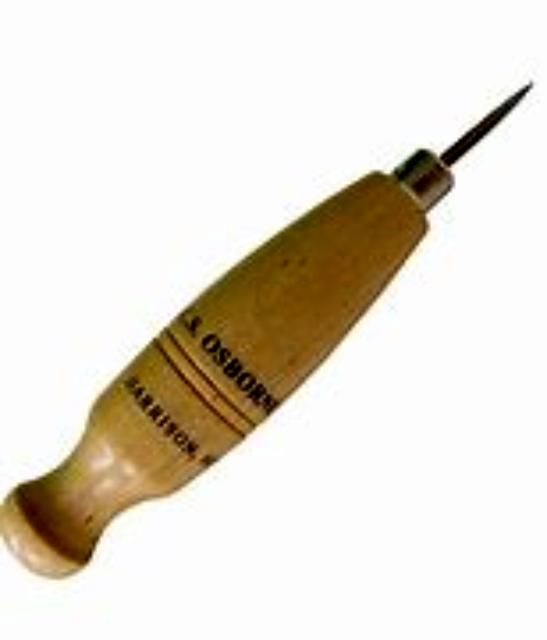ice pick: (1, 89, 530, 586)
